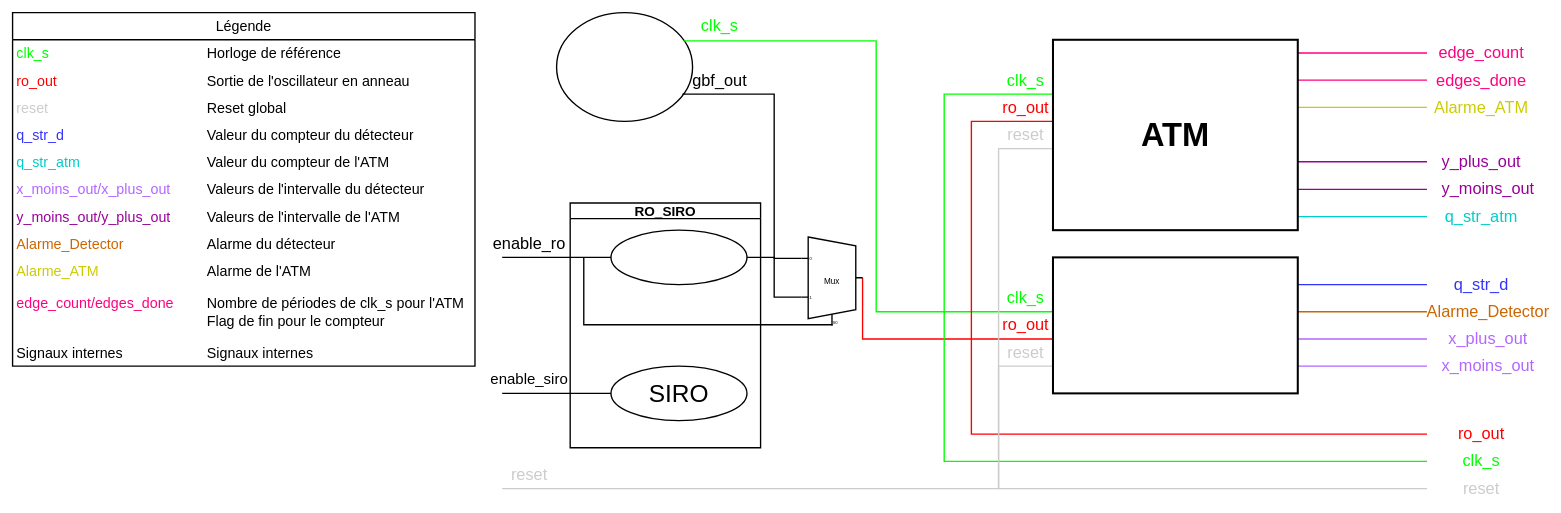
Image size: 1561x513. Some labels were removed from this diagram. Here are the shapes that lost their labels. From the top down, the centre of each, then its label:
the point at 624,67: GBF
the point at 678,257: RO
the point at 1175,325: Detector
